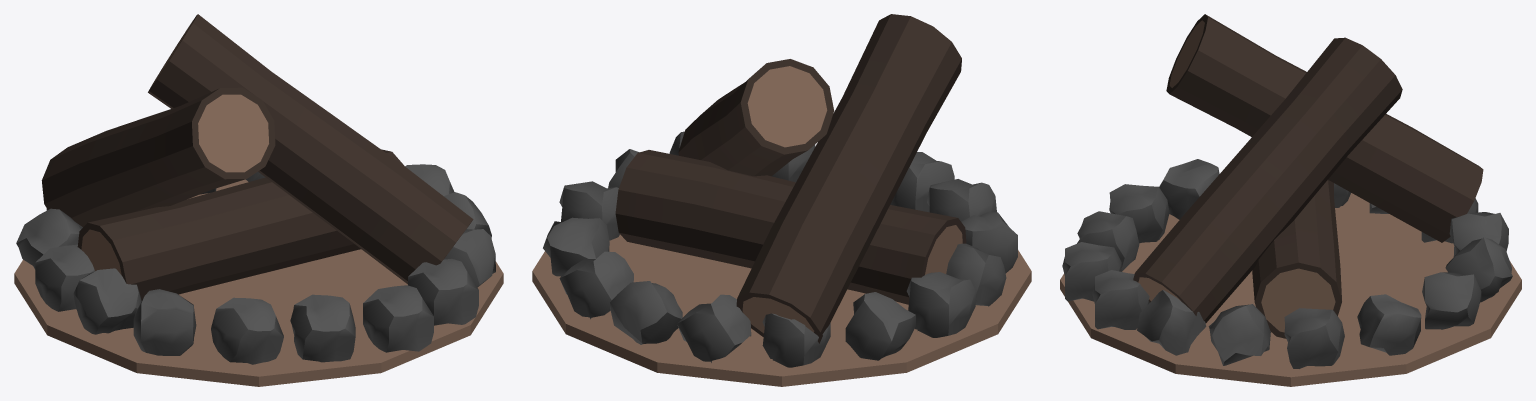
File: Fire Pit.fbx
3 views of the same model, side by side, from view 1: azimuth 30°, elevation 25°; view 2: azimuth 150°, elevation 25°; view 3: azimuth 270°, elevation 25° (orthographic). The views are drawn at different scales.
Visible parts, largest first — view 1: fire_log3, pCylinder1, fire_log1, fire_log2, rock15, rock1, rock16, rock14, rock13, rock2, rock12, rock11 (+3 smaller); view 2: fire_log1, fire_log2, pCylinder1, fire_log3, rock12, rock11, rock8, rock9, rock7, rock6, rock10, rock13 (+6 smaller); view 3: fire_log3, pCylinder1, fire_log1, fire_log2, rock5, rock6, rock7, rock4, rock3, rock2, rock15, rock8 (+4 smaller).
Part boxes in pixels (box(x1,y1,x2,y2)): fire_log3: box(148, 14, 473, 284); pCylinder1: box(14, 179, 503, 386); fire_log1: box(41, 87, 275, 226); fire_log2: box(77, 149, 404, 300); rock15: box(211, 297, 283, 364); rock1: box(363, 285, 433, 352); rock16: box(290, 294, 355, 362); rock14: box(133, 289, 196, 355); rock13: box(73, 268, 141, 334); rock2: box(408, 258, 478, 325); rock12: box(35, 244, 94, 311); rock11: box(16, 208, 80, 269); fire_log1: box(736, 14, 961, 343); fire_log2: box(615, 150, 966, 304); pCylinder1: box(532, 234, 1031, 386); fire_log3: box(678, 59, 834, 176); rock12: box(906, 272, 975, 337); rock11: box(845, 292, 915, 360); rock8: box(610, 281, 682, 344); rock9: box(677, 294, 751, 362); rock7: box(559, 251, 633, 319); rock6: box(543, 217, 609, 276); rock10: box(762, 313, 830, 367); rock13: box(946, 243, 1006, 306); fire_log3: box(1133, 37, 1402, 323); pCylinder1: box(1060, 193, 1521, 386); fire_log1: box(1166, 14, 1483, 242); fire_log2: box(1252, 180, 1341, 338); rock5: box(1284, 308, 1344, 368); rock6: box(1357, 294, 1421, 355); rock7: box(1422, 272, 1481, 329); rock4: box(1208, 304, 1270, 365); rock3: box(1137, 290, 1206, 355); rock2: box(1092, 270, 1149, 329); rock15: box(1109, 184, 1169, 243); rock8: box(1445, 237, 1512, 302).
Bounding box in the file's own units: 3.08 × 1.75 × 3.08.
